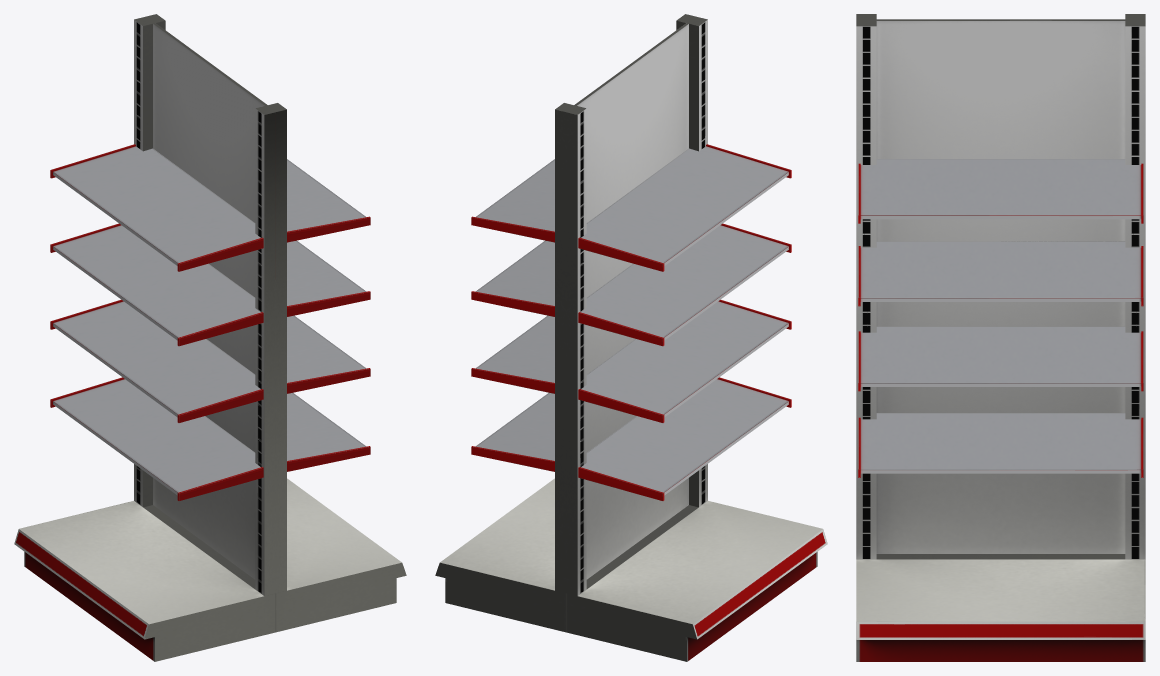
Rendered from sp_rack_2.FBX.
3 views of the same model, side by side, from view 1: azimuth 30°, elevation 25°; view 2: azimuth 150°, elevation 25°; view 3: azimuth 270°, elevation 25° (orthographic). The views are drawn at different scales.
Visible parts, largest first — view 1: sp_rack_2; view 2: sp_rack_2; view 3: sp_rack_2.
Boxes of the visible parts, x1,y1,x2,y2 form: sp_rack_2: (14, 14, 406, 661); sp_rack_2: (435, 14, 827, 661); sp_rack_2: (856, 14, 1145, 661).
Size of the model in its own units: 45.67 by 39.37 by 86.61.
